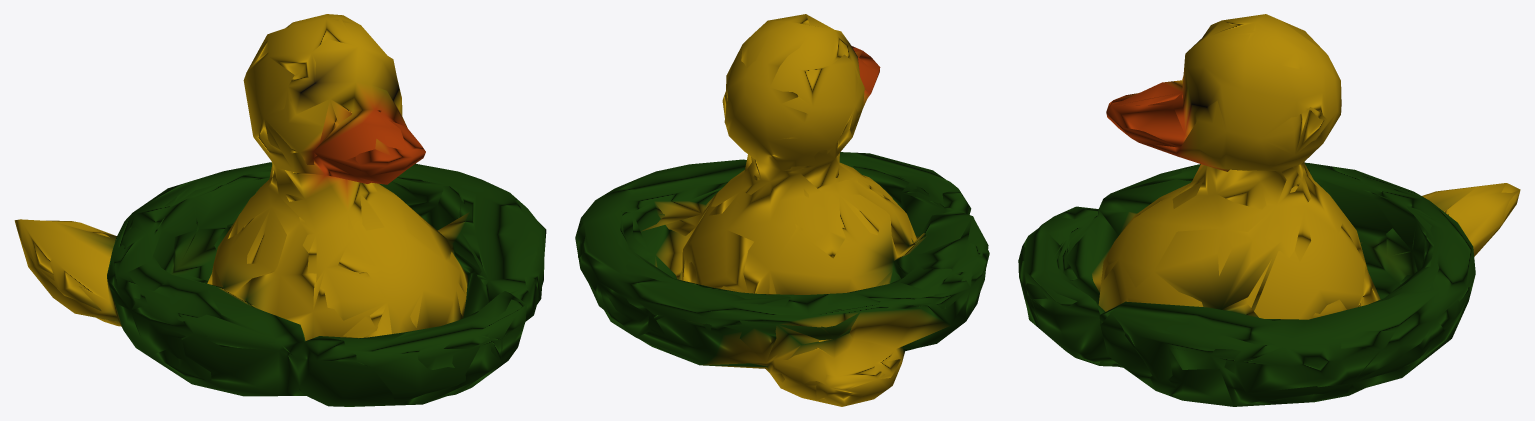
Rendered from gen3d-duck-pond-lod0.glb.
The picture shows the model from 3 angles, left to right: view 1: azimuth 30°, elevation 25°; view 2: azimuth 150°, elevation 25°; view 3: azimuth 270°, elevation 25°; orthographic projection. The views are drawn at different scales.
Parts seen in each view (by area): view 1: part_0; view 2: part_0; view 3: part_0.
Part boxes in pixels (x1,y1,x2,y2): part_0: [14, 14, 546, 406]; part_0: [575, 14, 989, 406]; part_0: [1018, 14, 1520, 406].
Bounding box in the file's own units: 1.28 × 0.9888 × 1.41.
